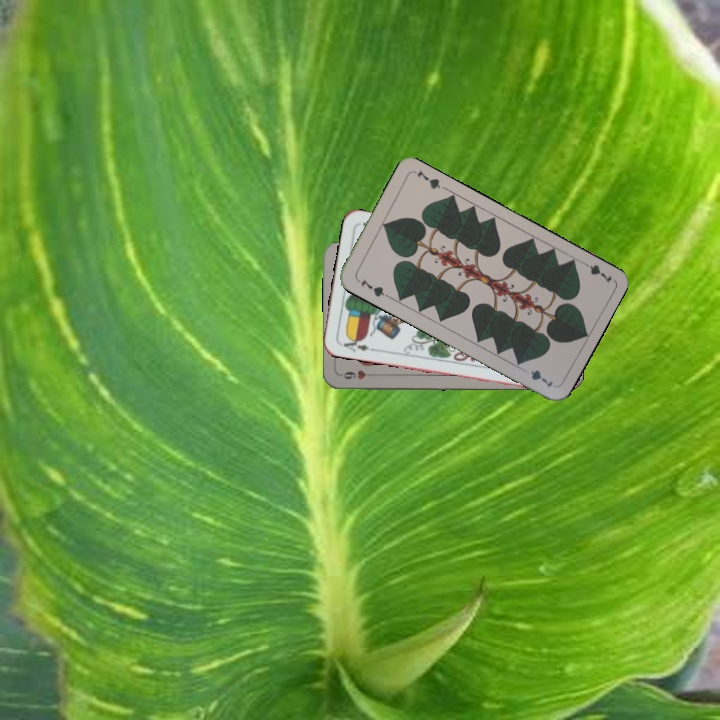EA: (336, 333, 377, 355)
G7: (577, 257, 615, 286), (352, 274, 390, 299)
H9: (338, 366, 378, 382)
